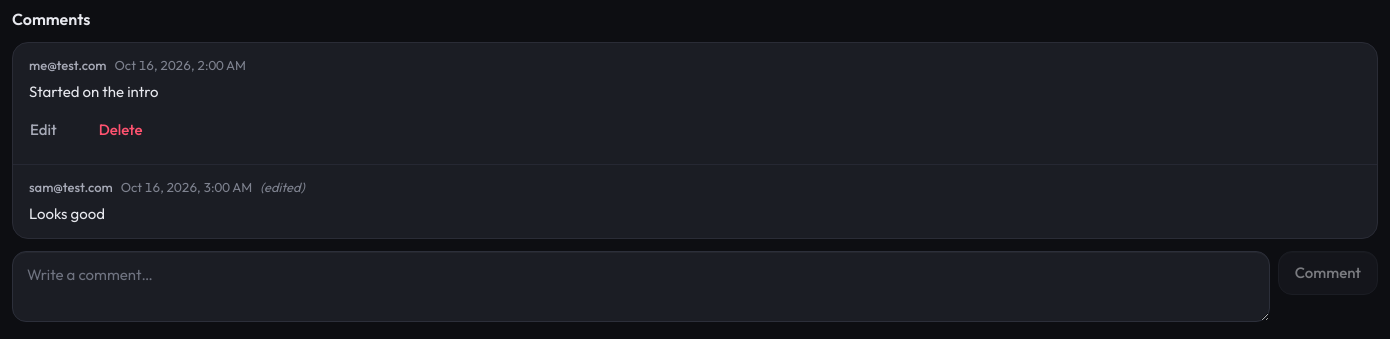
it: Comments › deletes your own comment after you confirm
This screenshot has width=1390, height=339.
What coordinates should you click on to do the following:
click the button with aria-label "Delete comment"
I would click on:
 (121, 130)
Its box is [82,108,160,152].
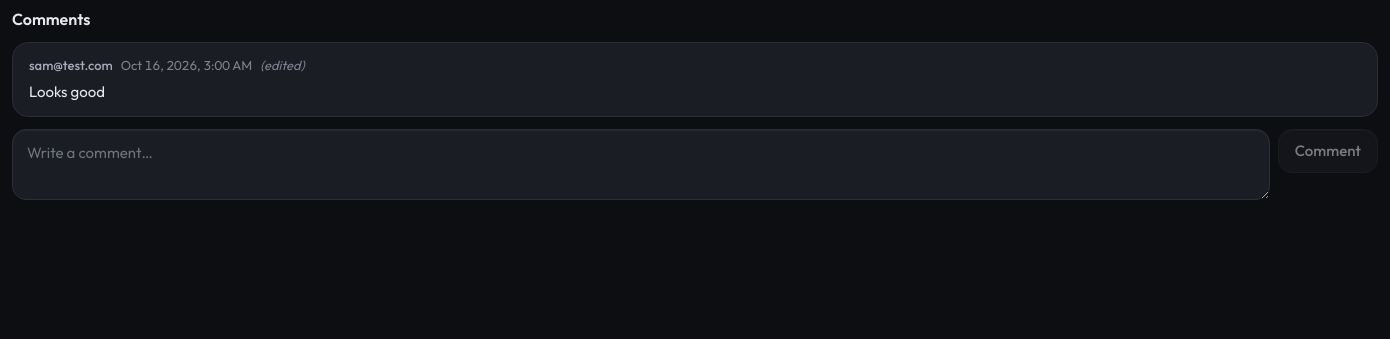
Check: the text "Started on the intro" is gone
